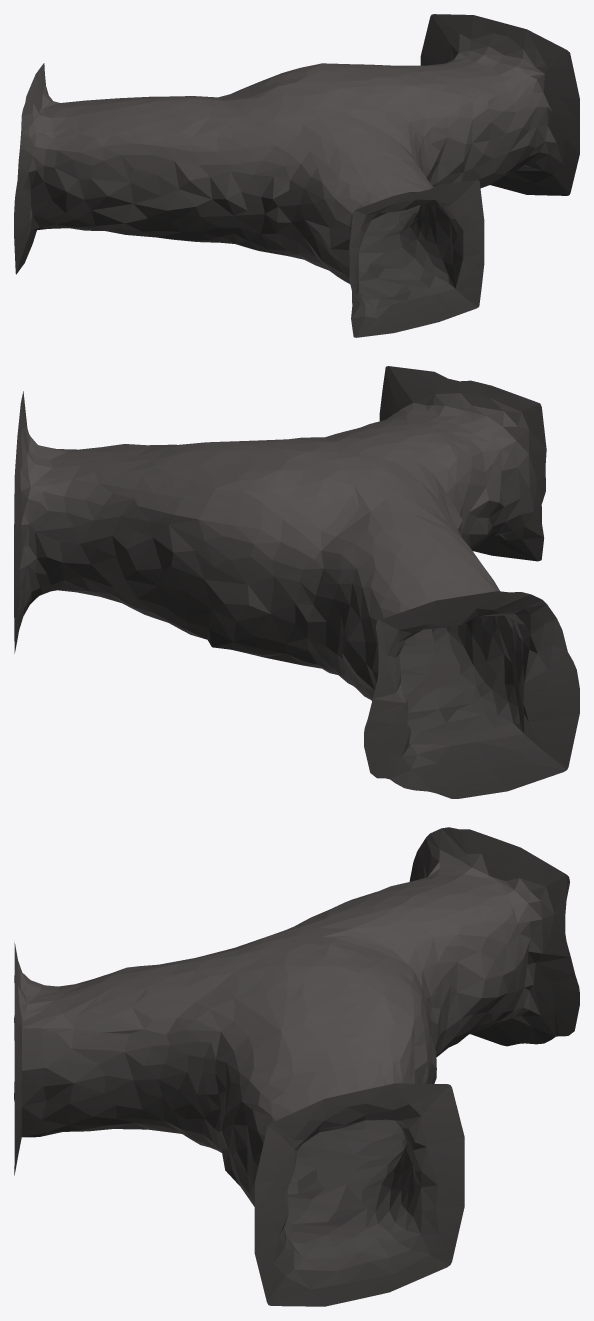
File: ZLP_Cave_A_10.FBX
3 views of the same model, one above another, from view 1: azimuth 30°, elevation 25°; view 2: azimuth 150°, elevation 25°; view 3: azimuth 270°, elevation 25° (orthographic). The views are drawn at different scales.
Parts seen in each view (by area): view 1: ZLP_Cave_A_10; view 2: ZLP_Cave_A_10; view 3: ZLP_Cave_A_10.
Boxes of the visible parts, x1=… form: ZLP_Cave_A_10: x1=14, y1=14, x2=579, y2=337; ZLP_Cave_A_10: x1=14, y1=366, x2=579, y2=798; ZLP_Cave_A_10: x1=14, y1=827, x2=579, y2=1306.
Bounding box in the file's own units: 5747 × 1820 × 4424.
